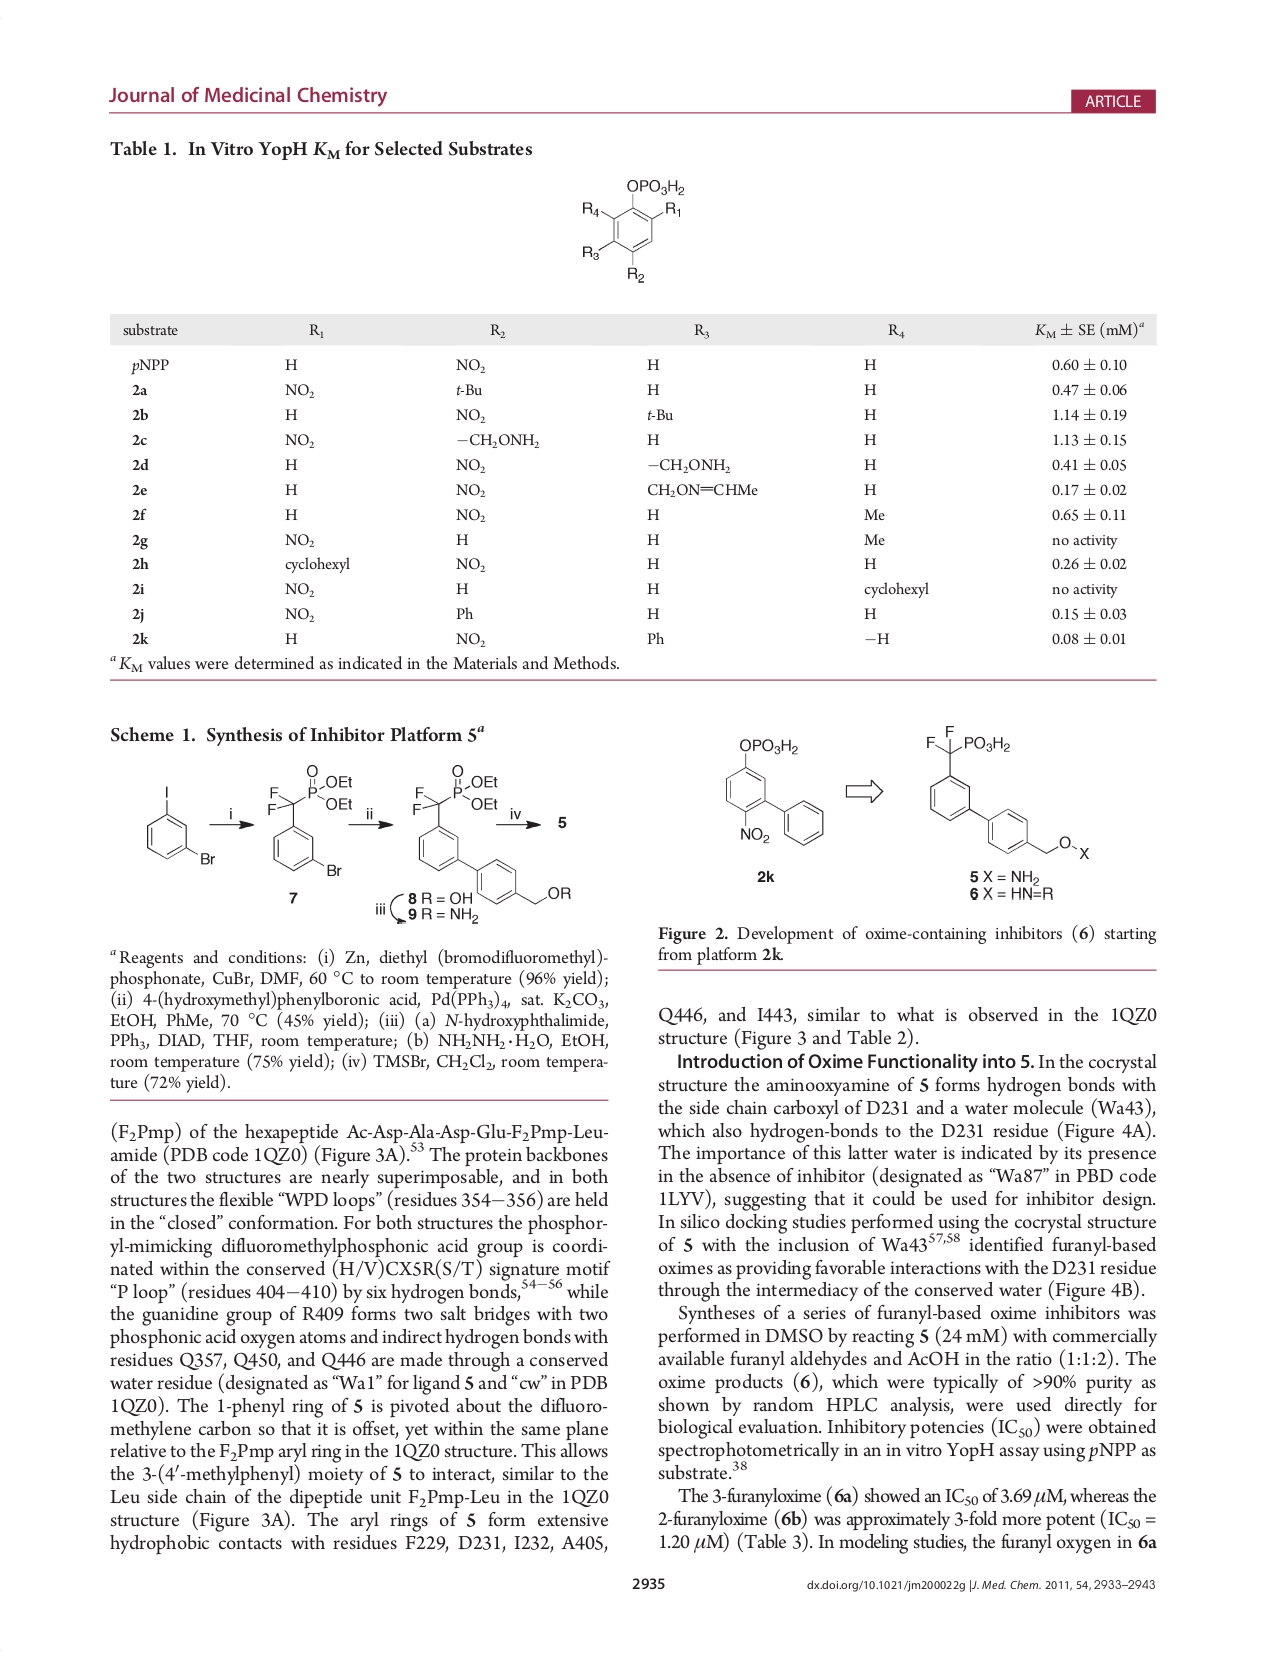exist_molecular: (919, 721, 1090, 862), (410, 759, 570, 906), (578, 176, 688, 287), (719, 735, 827, 848), (263, 763, 352, 880), (142, 783, 215, 868)
